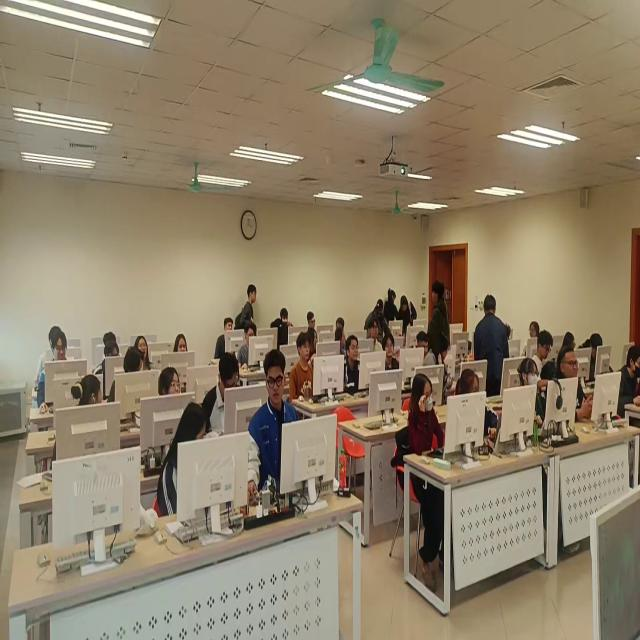raise_head: (558, 347, 594, 425), (408, 374, 439, 460), (289, 333, 317, 403), (270, 307, 294, 348), (345, 336, 361, 394), (216, 319, 235, 361), (135, 336, 155, 372), (159, 367, 181, 397), (519, 358, 541, 387), (383, 333, 400, 370), (369, 321, 384, 354), (174, 334, 189, 354)
stand: (474, 293, 511, 398), (424, 332, 454, 408), (429, 282, 451, 347), (364, 299, 390, 343), (235, 284, 258, 332), (399, 293, 419, 332), (384, 289, 399, 323)
using_computer: (158, 402, 209, 522), (203, 352, 241, 437), (38, 331, 68, 417), (617, 344, 640, 417), (36, 327, 62, 388), (579, 333, 615, 374), (531, 330, 554, 383), (557, 332, 577, 379), (238, 324, 256, 372), (95, 344, 121, 376), (417, 330, 430, 358), (104, 332, 118, 344), (308, 311, 317, 329)
